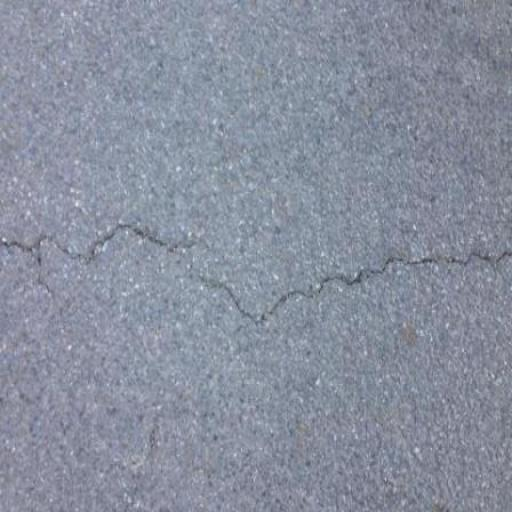spalling: (193, 230, 497, 340), (7, 218, 210, 272)
